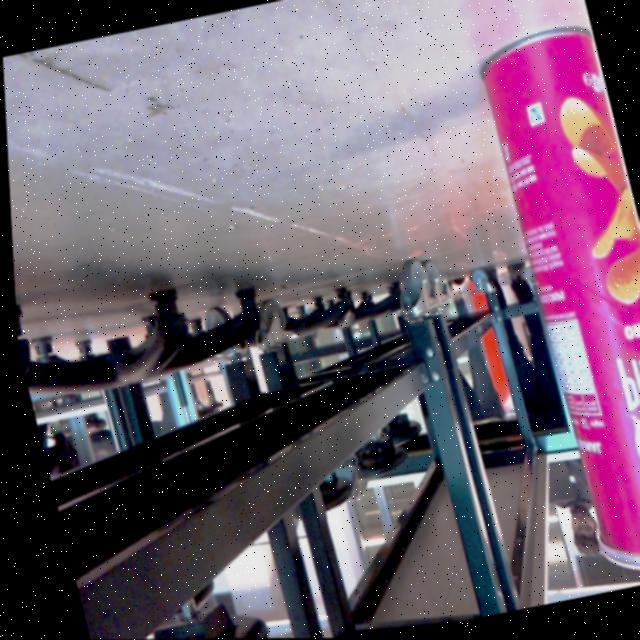redpringles: (451, 0, 640, 595)
